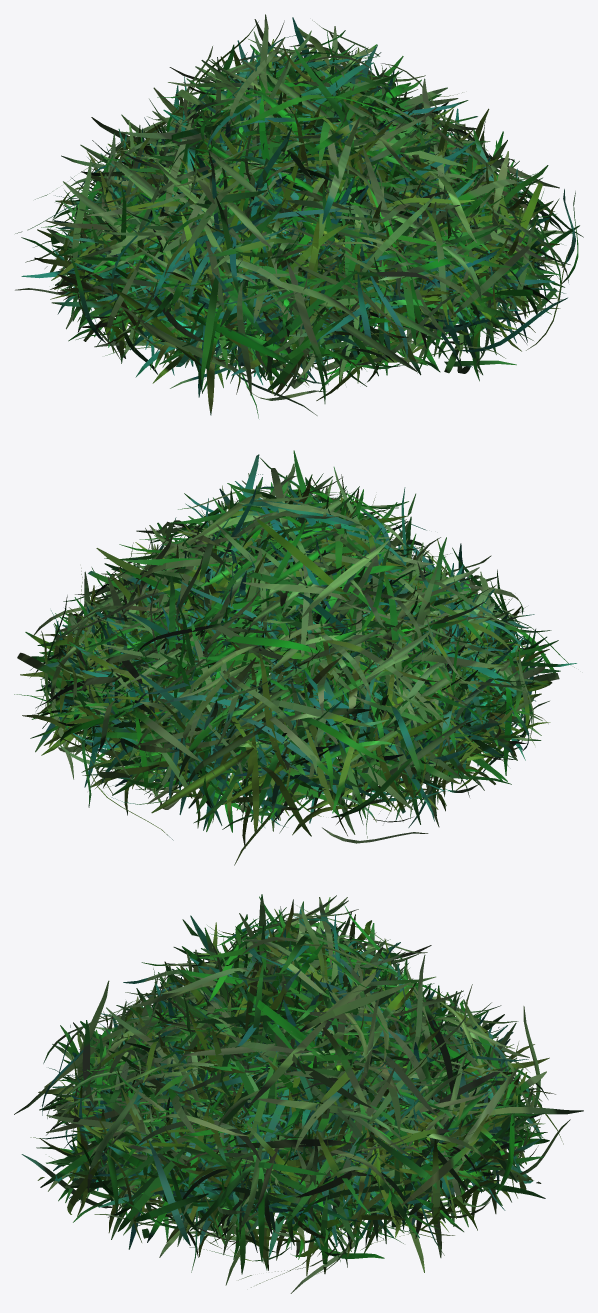
File: GrassBox.fbx
The picture shows the model from 3 angles, top to bottom: view 1: azimuth 30°, elevation 25°; view 2: azimuth 150°, elevation 25°; view 3: azimuth 270°, elevation 25°; orthographic projection. The views are drawn at different scales.
Parts seen in each view (by area): view 1: grass.005; view 2: grass.005; view 3: grass.005.
Part boxes in pixels (bbox=[...]): grass.005: bbox=[15, 14, 583, 418]; grass.005: bbox=[14, 450, 576, 865]; grass.005: bbox=[14, 894, 583, 1293].
Bounding box in the file's own units: 4.8 × 2.9 × 5.
